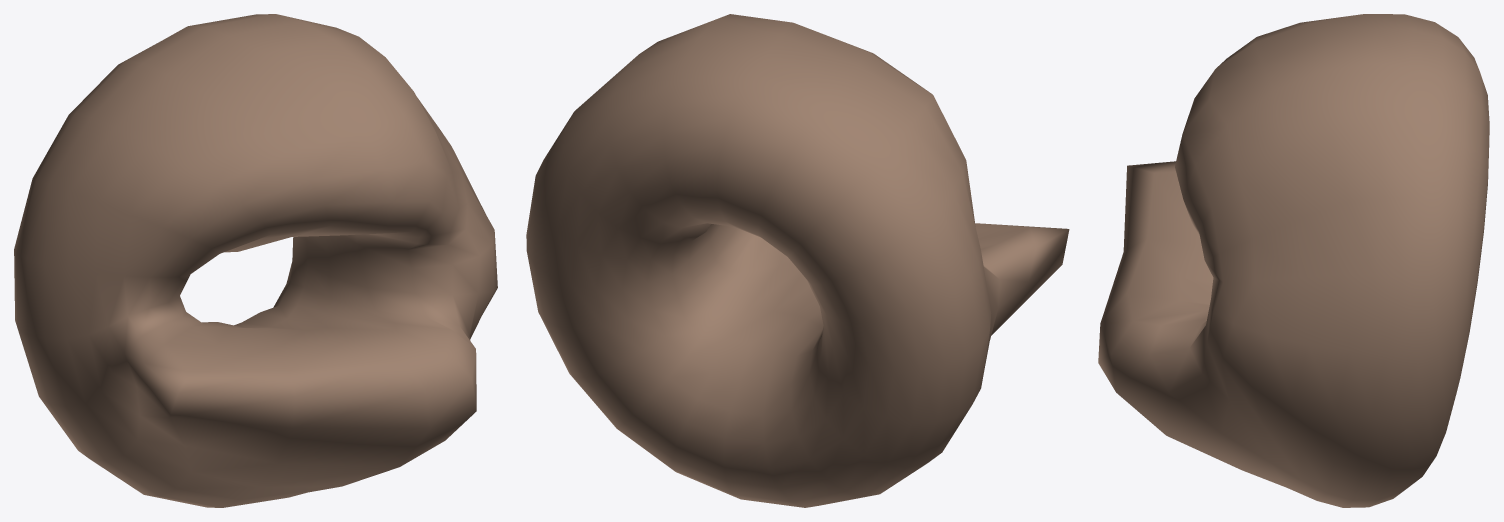
The model's file is _ave.fbx.
3 views of the same model, side by side, from view 1: azimuth 30°, elevation 25°; view 2: azimuth 150°, elevation 25°; view 3: azimuth 270°, elevation 25° (orthographic).
Visible parts, largest first — view 1: pTorus1; view 2: pTorus1; view 3: pTorus1.
Boxes of the visible parts, x1,y1,x2,y2 form: pTorus1: (14, 14, 497, 507); pTorus1: (526, 14, 1069, 507); pTorus1: (1098, 14, 1489, 507).
Bounding box in the file's own units: 77.01 × 76.38 × 60.22.
